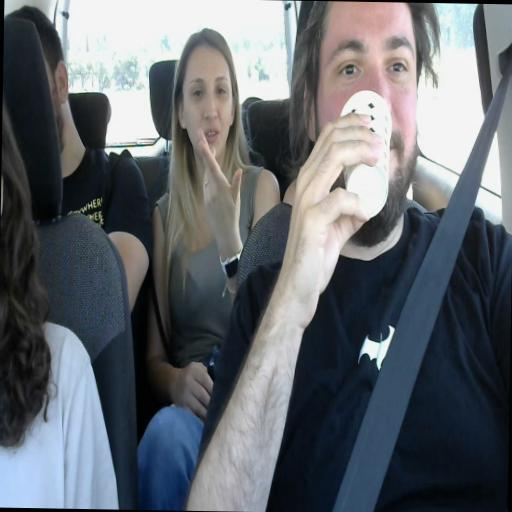Drinking: (299, 0, 420, 233)
